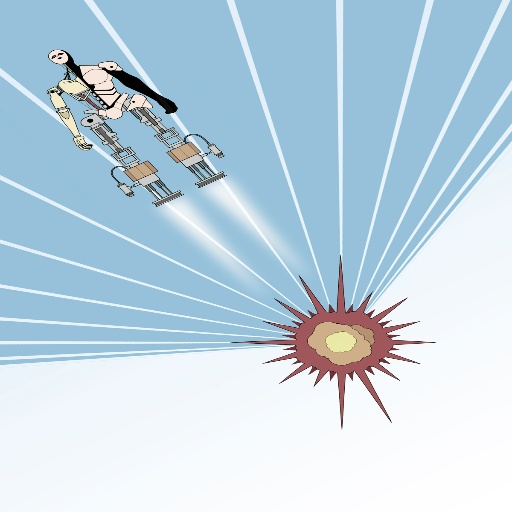hand: (70, 134, 94, 151), (155, 97, 177, 114)
